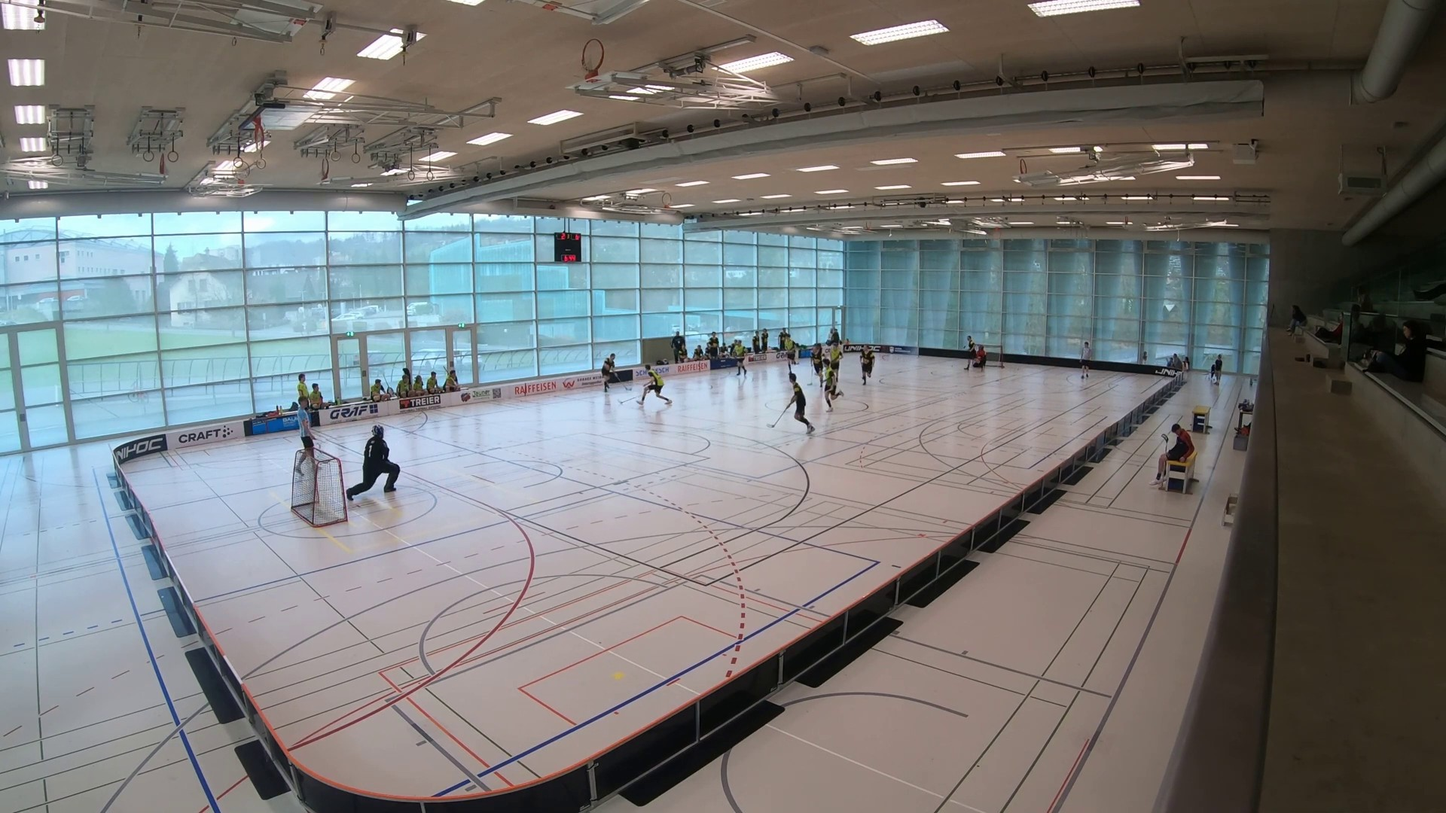goalkeeper: (346, 425, 400, 500), (973, 344, 987, 368)
player: (789, 373, 813, 433), (639, 364, 672, 404), (824, 363, 841, 410), (810, 343, 824, 386), (780, 332, 797, 367), (600, 354, 615, 392), (860, 346, 874, 385), (732, 339, 746, 376), (828, 341, 842, 367), (966, 335, 976, 358), (828, 327, 840, 344)
